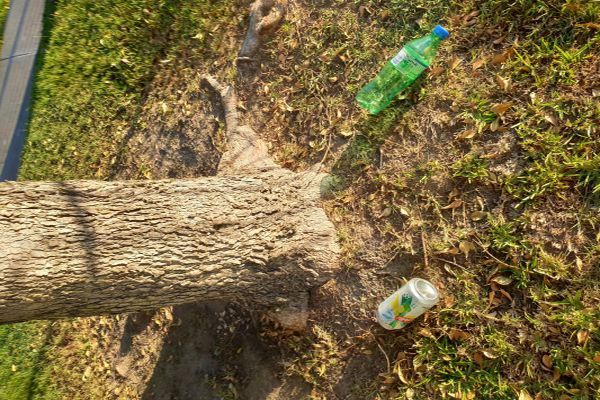Plastic Bottle: (355, 25, 450, 116), (375, 277, 440, 331)
